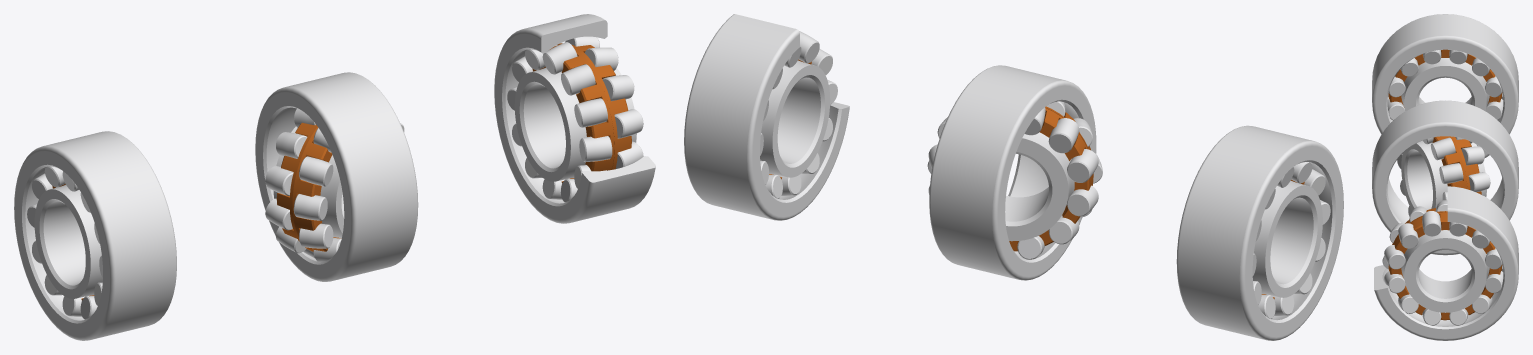
3 views of the same model, side by side, from view 1: azimuth 30°, elevation 25°; view 2: azimuth 150°, elevation 25°; view 3: azimuth 270°, elevation 25° (orthographic). The views are drawn at different scales.
Visible parts, largest first — view 1: Circle028, Circle035, Circle042, Circle039, Circle040, Circle030, Cylinder015, Cylinder014, Circle031, Circle038, Circle036, Circle037; view 2: Circle028, Circle035, Circle039, Circle030, Circle040, Circle036, Cylinder014, Circle042, Circle031, Circle037, Cylinder015; view 3: Circle035, Circle028, Circle039, Circle042, Circle040, Circle036, Circle031, Circle030, Cylinder015, Cylinder014, Circle038, Circle037.
Boxes of the visible parts, x1,y1,x2,y2 form: Circle028: (14,131,176,340); Circle035: (255,72,418,281); Circle042: (507,36,643,202); Circle039: (494,14,655,223); Circle040: (514,67,636,181); Circle030: (34,184,102,298); Cylinder015: (293,123,404,262); Cylinder014: (265,108,315,258); Circle031: (27,166,102,319); Circle038: (292,127,340,251); Circle036: (273,126,344,238); Circle037: (276,122,317,251); Circle028: (1176,125,1343,340); Circle035: (929,65,1096,280); Circle039: (684,14,849,220); Circle030: (1252,181,1322,297); Circle040: (760,60,830,177); Circle036: (1005,132,1074,241); Cylinder014: (928,107,1098,259); Circle042: (760,31,837,198); Circle031: (1252,162,1330,318); Circle037: (1009,108,1093,251); Cylinder015: (927,101,1102,217); Circle035: (1372,100,1518,255); Circle028: (1372,14,1518,157); Circle039: (1374,186,1518,340); Circle042: (1382,200,1503,325); Circle040: (1401,230,1489,312); Circle036: (1401,140,1486,211); Circle031: (1387,49,1503,120); Circle030: (1401,58,1489,111); Cylinder015: (1397,137,1463,216); Cylinder014: (1455,137,1490,196); Circle038: (1432,136,1467,189); Circle037: (1452,136,1481,194).
Size of the model in its own units: 56.95 by 18.02 by 18.02.
